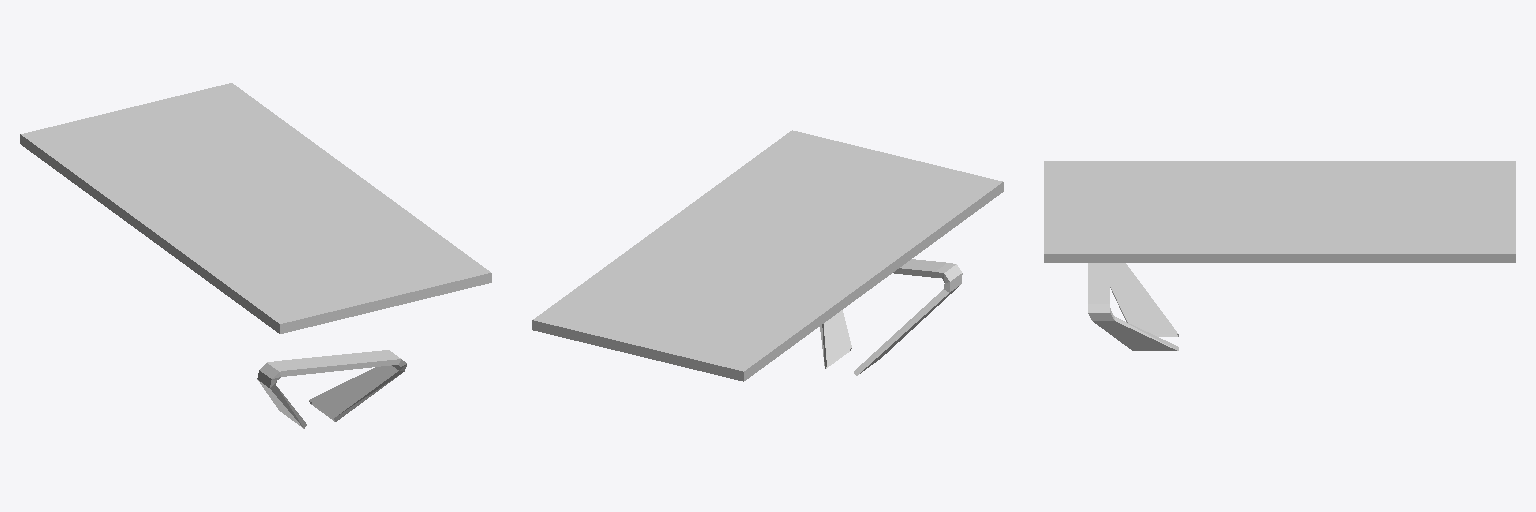
URDF robot description (partnet_e26918664dbd68eb7a867e9b35a1295):
<?xml version="1.0" ?>
<robot name="partnet_e26918664dbd68eb7a867e9b35a1295">

	<link name="base"/>
	<link name="link_0">
		<visual name="switch-11">
			<origin xyz="0 0.48966786375093707 0.21739313624906295"/>
			<geometry>
				<mesh filename="textured_objs/original-85.obj"/>
			</geometry>
<material name="White"> <color rgba="0.85 0.85 0.85 1.0"/> </material>
		</visual>
		<visual name="switch-11">
			<origin xyz="0 0.48966786375093707 0.21739313624906295"/>
			<geometry>
				<mesh filename="textured_objs/original-109.obj"/>
			</geometry>
<material name="White"> <color rgba="0.85 0.85 0.85 1.0"/> </material>
		</visual>
		<visual name="switch-11">
			<origin xyz="0 0.48966786375093707 0.21739313624906295"/>
			<geometry>
				<mesh filename="textured_objs/original-54.obj"/>
			</geometry>
<material name="White"> <color rgba="0.85 0.85 0.85 1.0"/> </material>
		</visual>
		<visual name="switch-11">
			<origin xyz="0 0.48966786375093707 0.21739313624906295"/>
			<geometry>
				<mesh filename="textured_objs/original-113.obj"/>
			</geometry>
<material name="White"> <color rgba="0.85 0.85 0.85 1.0"/> </material>
		</visual>
		<visual name="switch-11">
			<origin xyz="0 0.48966786375093707 0.21739313624906295"/>
			<geometry>
				<mesh filename="textured_objs/original-97.obj"/>
			</geometry>
<material name="White"> <color rgba="0.85 0.85 0.85 1.0"/> </material>
		</visual>
		<visual name="switch-11">
			<origin xyz="0 0.48966786375093707 0.21739313624906295"/>
			<geometry>
				<mesh filename="textured_objs/original-137.obj"/>
			</geometry>
<material name="White"> <color rgba="0.85 0.85 0.85 1.0"/> </material>
		</visual>
		<collision>
			<origin xyz="0 0.48966786375093707 0.21739313624906295"/>
			<geometry>
				<mesh filename="textured_objs/original-85.obj"/>
			</geometry>
    </collision>
		<collision>
			<origin xyz="0 0.48966786375093707 0.21739313624906295"/>
			<geometry>
				<mesh filename="textured_objs/original-109.obj"/>
			</geometry>
    </collision>
		<collision>
			<origin xyz="0 0.48966786375093707 0.21739313624906295"/>
			<geometry>
				<mesh filename="textured_objs/original-54.obj"/>
			</geometry>
    </collision>
		<collision>
			<origin xyz="0 0.48966786375093707 0.21739313624906295"/>
			<geometry>
				<mesh filename="textured_objs/original-113.obj"/>
			</geometry>
    </collision>
		<collision>
			<origin xyz="0 0.48966786375093707 0.21739313624906295"/>
			<geometry>
				<mesh filename="textured_objs/original-97.obj"/>
			</geometry>
    </collision>
		<collision>
			<origin xyz="0 0.48966786375093707 0.21739313624906295"/>
			<geometry>
				<mesh filename="textured_objs/original-137.obj"/>
			</geometry>
    </collision>
	</link>
	<joint name="joint_0" type="revolute">
		<origin xyz="0 -0.48966786375093707 -0.21739313624906295"/>
		<axis xyz="1 0 0"/>
		<child link="link_0"/>
		<parent link="link_1"/>
		<limit lower="0.0" upper="2.9670597283903604"/>
	</joint>
	<link name="link_1">
		<visual name="surface_base-18">
			<origin xyz="0 0 0"/>
			<geometry>
				<mesh filename="textured_objs/original-63.obj"/>
			</geometry>
<material name="White"> <color rgba="0.85 0.85 0.85 1.0"/> </material>
		</visual>
		<visual name="surface_base-18">
			<origin xyz="0 0 0"/>
			<geometry>
				<mesh filename="textured_objs/original-163.obj"/>
			</geometry>
<material name="White"> <color rgba="0.85 0.85 0.85 1.0"/> </material>
		</visual>
		<visual name="surface_base-18">
			<origin xyz="0 0 0"/>
			<geometry>
				<mesh filename="textured_objs/original-140.obj"/>
			</geometry>
<material name="White"> <color rgba="0.85 0.85 0.85 1.0"/> </material>
		</visual>
		<visual name="surface_base-18">
			<origin xyz="0 0 0"/>
			<geometry>
				<mesh filename="textured_objs/original-165.obj"/>
			</geometry>
<material name="White"> <color rgba="0.85 0.85 0.85 1.0"/> </material>
		</visual>
		<visual name="surface_base-18">
			<origin xyz="0 0 0"/>
			<geometry>
				<mesh filename="textured_objs/original-166.obj"/>
			</geometry>
<material name="White"> <color rgba="0.85 0.85 0.85 1.0"/> </material>
		</visual>
		<visual name="surface_base-18">
			<origin xyz="0 0 0"/>
			<geometry>
				<mesh filename="textured_objs/original-147.obj"/>
			</geometry>
<material name="White"> <color rgba="0.85 0.85 0.85 1.0"/> </material>
		</visual>
		<visual name="surface_base-18">
			<origin xyz="0 0 0"/>
			<geometry>
				<mesh filename="textured_objs/original-167.obj"/>
			</geometry>
<material name="White"> <color rgba="0.85 0.85 0.85 1.0"/> </material>
		</visual>
		<visual name="surface_base-18">
			<origin xyz="0 0 0"/>
			<geometry>
				<mesh filename="textured_objs/original-135.obj"/>
			</geometry>
<material name="White"> <color rgba="0.85 0.85 0.85 1.0"/> </material>
		</visual>
		<visual name="surface_base-18">
			<origin xyz="0 0 0"/>
			<geometry>
				<mesh filename="textured_objs/original-141.obj"/>
			</geometry>
<material name="White"> <color rgba="0.85 0.85 0.85 1.0"/> </material>
		</visual>
		<visual name="surface_base-18">
			<origin xyz="0 0 0"/>
			<geometry>
				<mesh filename="textured_objs/original-131.obj"/>
			</geometry>
<material name="White"> <color rgba="0.85 0.85 0.85 1.0"/> </material>
		</visual>
		<visual name="surface_base-18">
			<origin xyz="0 0 0"/>
			<geometry>
				<mesh filename="textured_objs/original-142.obj"/>
			</geometry>
<material name="White"> <color rgba="0.85 0.85 0.85 1.0"/> </material>
		</visual>
		<visual name="surface_base-18">
			<origin xyz="0 0 0"/>
			<geometry>
				<mesh filename="textured_objs/original-144.obj"/>
			</geometry>
<material name="White"> <color rgba="0.85 0.85 0.85 1.0"/> </material>
		</visual>
		<visual name="surface_base-18">
			<origin xyz="0 0 0"/>
			<geometry>
				<mesh filename="textured_objs/original-128.obj"/>
			</geometry>
<material name="White"> <color rgba="0.85 0.85 0.85 1.0"/> </material>
		</visual>
		<visual name="surface_base-18">
			<origin xyz="0 0 0"/>
			<geometry>
				<mesh filename="textured_objs/original-151.obj"/>
			</geometry>
<material name="White"> <color rgba="0.85 0.85 0.85 1.0"/> </material>
		</visual>
		<visual name="surface_base-18">
			<origin xyz="0 0 0"/>
			<geometry>
				<mesh filename="textured_objs/original-134.obj"/>
			</geometry>
<material name="White"> <color rgba="0.85 0.85 0.85 1.0"/> </material>
		</visual>
		<visual name="surface_base-18">
			<origin xyz="0 0 0"/>
			<geometry>
				<mesh filename="textured_objs/original-125.obj"/>
			</geometry>
<material name="White"> <color rgba="0.85 0.85 0.85 1.0"/> </material>
		</visual>
		<visual name="surface_base-18">
			<origin xyz="0 0 0"/>
			<geometry>
				<mesh filename="textured_objs/original-133.obj"/>
			</geometry>
<material name="White"> <color rgba="0.85 0.85 0.85 1.0"/> </material>
		</visual>
		<visual name="surface_base-18">
			<origin xyz="0 0 0"/>
			<geometry>
				<mesh filename="textured_objs/original-169.obj"/>
			</geometry>
<material name="White"> <color rgba="0.85 0.85 0.85 1.0"/> </material>
		</visual>
		<visual name="surface_base-18">
			<origin xyz="0 0 0"/>
			<geometry>
				<mesh filename="textured_objs/original-168.obj"/>
			</geometry>
<material name="White"> <color rgba="0.85 0.85 0.85 1.0"/> </material>
		</visual>
		<visual name="vertical_support-19">
			<origin xyz="0 0 0"/>
			<geometry>
				<mesh filename="textured_objs/original-18.obj"/>
			</geometry>
<material name="White"> <color rgba="0.85 0.85 0.85 1.0"/> </material>
		</visual>
		<visual name="vertical_support-19">
			<origin xyz="0 0 0"/>
			<geometry>
				<mesh filename="textured_objs/original-35.obj"/>
			</geometry>
<material name="White"> <color rgba="0.85 0.85 0.85 1.0"/> </material>
		</visual>
		<visual name="vertical_support-19">
			<origin xyz="0 0 0"/>
			<geometry>
				<mesh filename="textured_objs/original-64.obj"/>
			</geometry>
<material name="White"> <color rgba="0.85 0.85 0.85 1.0"/> </material>
		</visual>
		<visual name="horizontal_support-20">
			<origin xyz="0 0 0"/>
			<geometry>
				<mesh filename="textured_objs/original-36.obj"/>
			</geometry>
<material name="White"> <color rgba="0.85 0.85 0.85 1.0"/> </material>
		</visual>
		<visual name="horizontal_support-20">
			<origin xyz="0 0 0"/>
			<geometry>
				<mesh filename="textured_objs/original-17.obj"/>
			</geometry>
<material name="White"> <color rgba="0.85 0.85 0.85 1.0"/> </material>
		</visual>
		<collision>
			<origin xyz="0 0 0"/>
			<geometry>
				<mesh filename="textured_objs/original-63.obj"/>
			</geometry>
    </collision>
		<collision>
			<origin xyz="0 0 0"/>
			<geometry>
				<mesh filename="textured_objs/original-163.obj"/>
			</geometry>
    </collision>
		<collision>
			<origin xyz="0 0 0"/>
			<geometry>
				<mesh filename="textured_objs/original-140.obj"/>
			</geometry>
    </collision>
		<collision>
			<origin xyz="0 0 0"/>
			<geometry>
				<mesh filename="textured_objs/original-165.obj"/>
			</geometry>
    </collision>
		<collision>
			<origin xyz="0 0 0"/>
			<geometry>
				<mesh filename="textured_objs/original-166.obj"/>
			</geometry>
    </collision>
		<collision>
			<origin xyz="0 0 0"/>
			<geometry>
				<mesh filename="textured_objs/original-147.obj"/>
			</geometry>
    </collision>
		<collision>
			<origin xyz="0 0 0"/>
			<geometry>
				<mesh filename="textured_objs/original-167.obj"/>
			</geometry>
    </collision>
		<collision>
			<origin xyz="0 0 0"/>
			<geometry>
				<mesh filename="textured_objs/original-135.obj"/>
			</geometry>
    </collision>
		<collision>
			<origin xyz="0 0 0"/>
			<geometry>
				<mesh filename="textured_objs/original-141.obj"/>
			</geometry>
    </collision>
		<collision>
			<origin xyz="0 0 0"/>
			<geometry>
				<mesh filename="textured_objs/original-131.obj"/>
			</geometry>
    </collision>
		<collision>
			<origin xyz="0 0 0"/>
			<geometry>
				<mesh filename="textured_objs/original-142.obj"/>
			</geometry>
    </collision>
		<collision>
			<origin xyz="0 0 0"/>
			<geometry>
				<mesh filename="textured_objs/original-144.obj"/>
			</geometry>
    </collision>
		<collision>
			<origin xyz="0 0 0"/>
			<geometry>
				<mesh filename="textured_objs/original-128.obj"/>
			</geometry>
    </collision>
		<collision>
			<origin xyz="0 0 0"/>
			<geometry>
				<mesh filename="textured_objs/original-151.obj"/>
			</geometry>
    </collision>
		<collision>
			<origin xyz="0 0 0"/>
			<geometry>
				<mesh filename="textured_objs/original-134.obj"/>
			</geometry>
    </collision>
		<collision>
			<origin xyz="0 0 0"/>
			<geometry>
				<mesh filename="textured_objs/original-125.obj"/>
			</geometry>
    </collision>
		<collision>
			<origin xyz="0 0 0"/>
			<geometry>
				<mesh filename="textured_objs/original-133.obj"/>
			</geometry>
    </collision>
		<collision>
			<origin xyz="0 0 0"/>
			<geometry>
				<mesh filename="textured_objs/original-169.obj"/>
			</geometry>
    </collision>
		<collision>
			<origin xyz="0 0 0"/>
			<geometry>
				<mesh filename="textured_objs/original-168.obj"/>
			</geometry>
    </collision>
		<collision>
			<origin xyz="0 0 0"/>
			<geometry>
				<mesh filename="textured_objs/original-18.obj"/>
			</geometry>
    </collision>
		<collision>
			<origin xyz="0 0 0"/>
			<geometry>
				<mesh filename="textured_objs/original-35.obj"/>
			</geometry>
    </collision>
		<collision>
			<origin xyz="0 0 0"/>
			<geometry>
				<mesh filename="textured_objs/original-64.obj"/>
			</geometry>
    </collision>
		<collision>
			<origin xyz="0 0 0"/>
			<geometry>
				<mesh filename="textured_objs/original-36.obj"/>
			</geometry>
    </collision>
		<collision>
			<origin xyz="0 0 0"/>
			<geometry>
				<mesh filename="textured_objs/original-17.obj"/>
			</geometry>
    </collision>
	</link>
	<joint name="joint_1" type="fixed">
		<origin rpy="1.570796326794897 0 -1.570796326794897" xyz="0 0 0"/>
		<child link="link_1"/>
		<parent link="base"/>
	</joint>
	<link name="link_2">
		<visual name="tube-14">
			<origin xyz="0.041883731395393024 0 0.21739326860460695"/>
			<geometry>
				<mesh filename="textured_objs/original-180.obj"/>
			</geometry>
<material name="White"> <color rgba="0.85 0.85 0.85 1.0"/> </material>
		</visual>
		<visual name="tube-14">
			<origin xyz="0.041883731395393024 0 0.21739326860460695"/>
			<geometry>
				<mesh filename="textured_objs/original-161.obj"/>
			</geometry>
<material name="White"> <color rgba="0.85 0.85 0.85 1.0"/> </material>
		</visual>
		<visual name="tube-14">
			<origin xyz="0.041883731395393024 0 0.21739326860460695"/>
			<geometry>
				<mesh filename="textured_objs/original-170.obj"/>
			</geometry>
<material name="White"> <color rgba="0.85 0.85 0.85 1.0"/> </material>
		</visual>
		<visual name="tube-14">
			<origin xyz="0.041883731395393024 0 0.21739326860460695"/>
			<geometry>
				<mesh filename="textured_objs/original-182.obj"/>
			</geometry>
<material name="White"> <color rgba="0.85 0.85 0.85 1.0"/> </material>
		</visual>
		<visual name="tube-14">
			<origin xyz="0.041883731395393024 0 0.21739326860460695"/>
			<geometry>
				<mesh filename="textured_objs/original-181.obj"/>
			</geometry>
<material name="White"> <color rgba="0.85 0.85 0.85 1.0"/> </material>
		</visual>
		<visual name="tube-14">
			<origin xyz="0.041883731395393024 0 0.21739326860460695"/>
			<geometry>
				<mesh filename="textured_objs/original-176.obj"/>
			</geometry>
<material name="White"> <color rgba="0.85 0.85 0.85 1.0"/> </material>
		</visual>
		<visual name="tube-14">
			<origin xyz="0.041883731395393024 0 0.21739326860460695"/>
			<geometry>
				<mesh filename="textured_objs/original-183.obj"/>
			</geometry>
<material name="White"> <color rgba="0.85 0.85 0.85 1.0"/> </material>
		</visual>
		<visual name="tube-14">
			<origin xyz="0.041883731395393024 0 0.21739326860460695"/>
			<geometry>
				<mesh filename="textured_objs/original-179.obj"/>
			</geometry>
<material name="White"> <color rgba="0.85 0.85 0.85 1.0"/> </material>
		</visual>
		<visual name="tube-14">
			<origin xyz="0.041883731395393024 0 0.21739326860460695"/>
			<geometry>
				<mesh filename="textured_objs/original-192.obj"/>
			</geometry>
<material name="White"> <color rgba="0.85 0.85 0.85 1.0"/> </material>
		</visual>
		<visual name="tube-14">
			<origin xyz="0.041883731395393024 0 0.21739326860460695"/>
			<geometry>
				<mesh filename="textured_objs/original-190.obj"/>
			</geometry>
<material name="White"> <color rgba="0.85 0.85 0.85 1.0"/> </material>
		</visual>
		<visual name="tube-14">
			<origin xyz="0.041883731395393024 0 0.21739326860460695"/>
			<geometry>
				<mesh filename="textured_objs/original-178.obj"/>
			</geometry>
<material name="White"> <color rgba="0.85 0.85 0.85 1.0"/> </material>
		</visual>
		<visual name="tube-14">
			<origin xyz="0.041883731395393024 0 0.21739326860460695"/>
			<geometry>
				<mesh filename="textured_objs/original-157.obj"/>
			</geometry>
<material name="White"> <color rgba="0.85 0.85 0.85 1.0"/> </material>
		</visual>
		<visual name="tube-14">
			<origin xyz="0.041883731395393024 0 0.21739326860460695"/>
			<geometry>
				<mesh filename="textured_objs/original-160.obj"/>
			</geometry>
<material name="White"> <color rgba="0.85 0.85 0.85 1.0"/> </material>
		</visual>
		<visual name="tube-14">
			<origin xyz="0.041883731395393024 0 0.21739326860460695"/>
			<geometry>
				<mesh filename="textured_objs/original-194.obj"/>
			</geometry>
<material name="White"> <color rgba="0.85 0.85 0.85 1.0"/> </material>
		</visual>
		<visual name="tube-14">
			<origin xyz="0.041883731395393024 0 0.21739326860460695"/>
			<geometry>
				<mesh filename="textured_objs/original-158.obj"/>
			</geometry>
<material name="White"> <color rgba="0.85 0.85 0.85 1.0"/> </material>
		</visual>
		<visual name="tube-14">
			<origin xyz="0.041883731395393024 0 0.21739326860460695"/>
			<geometry>
				<mesh filename="textured_objs/original-173.obj"/>
			</geometry>
<material name="White"> <color rgba="0.85 0.85 0.85 1.0"/> </material>
		</visual>
		<visual name="tube-14">
			<origin xyz="0.041883731395393024 0 0.21739326860460695"/>
			<geometry>
				<mesh filename="textured_objs/original-189.obj"/>
			</geometry>
<material name="White"> <color rgba="0.85 0.85 0.85 1.0"/> </material>
		</visual>
		<visual name="tube-14">
			<origin xyz="0.041883731395393024 0 0.21739326860460695"/>
			<geometry>
				<mesh filename="textured_objs/original-195.obj"/>
			</geometry>
<material name="White"> <color rgba="0.85 0.85 0.85 1.0"/> </material>
		</visual>
		<visual name="tube-14">
			<origin xyz="0.041883731395393024 0 0.21739326860460695"/>
			<geometry>
				<mesh filename="textured_objs/original-172.obj"/>
			</geometry>
<material name="White"> <color rgba="0.85 0.85 0.85 1.0"/> </material>
		</visual>
		<visual name="tube-14">
			<origin xyz="0.041883731395393024 0 0.21739326860460695"/>
			<geometry>
				<mesh filename="textured_objs/original-174.obj"/>
			</geometry>
<material name="White"> <color rgba="0.85 0.85 0.85 1.0"/> </material>
		</visual>
		<visual name="tube-14">
			<origin xyz="0.041883731395393024 0 0.21739326860460695"/>
			<geometry>
				<mesh filename="textured_objs/original-171.obj"/>
			</geometry>
<material name="White"> <color rgba="0.85 0.85 0.85 1.0"/> </material>
		</visual>
		<visual name="tube-14">
			<origin xyz="0.041883731395393024 0 0.21739326860460695"/>
			<geometry>
				<mesh filename="textured_objs/original-159.obj"/>
			</geometry>
<material name="White"> <color rgba="0.85 0.85 0.85 1.0"/> </material>
		</visual>
		<visual name="tube-14">
			<origin xyz="0.041883731395393024 0 0.21739326860460695"/>
			<geometry>
				<mesh filename="textured_objs/original-156.obj"/>
			</geometry>
<material name="White"> <color rgba="0.85 0.85 0.85 1.0"/> </material>
		</visual>
		<visual name="mouth-15">
			<origin xyz="0.041883731395393024 0 0.21739326860460695"/>
			<geometry>
				<mesh filename="textured_objs/original-186.obj"/>
			</geometry>
<material name="White"> <color rgba="0.85 0.85 0.85 1.0"/> </material>
		</visual>
		<collision>
			<origin xyz="0.041883731395393024 0 0.21739326860460695"/>
			<geometry>
				<mesh filename="textured_objs/original-180.obj"/>
			</geometry>
    </collision>
		<collision>
			<origin xyz="0.041883731395393024 0 0.21739326860460695"/>
			<geometry>
				<mesh filename="textured_objs/original-161.obj"/>
			</geometry>
    </collision>
		<collision>
			<origin xyz="0.041883731395393024 0 0.21739326860460695"/>
			<geometry>
				<mesh filename="textured_objs/original-170.obj"/>
			</geometry>
    </collision>
		<collision>
			<origin xyz="0.041883731395393024 0 0.21739326860460695"/>
			<geometry>
				<mesh filename="textured_objs/original-182.obj"/>
			</geometry>
    </collision>
		<collision>
			<origin xyz="0.041883731395393024 0 0.21739326860460695"/>
			<geometry>
				<mesh filename="textured_objs/original-181.obj"/>
			</geometry>
    </collision>
		<collision>
			<origin xyz="0.041883731395393024 0 0.21739326860460695"/>
			<geometry>
				<mesh filename="textured_objs/original-176.obj"/>
			</geometry>
    </collision>
		<collision>
			<origin xyz="0.041883731395393024 0 0.21739326860460695"/>
			<geometry>
				<mesh filename="textured_objs/original-183.obj"/>
			</geometry>
    </collision>
		<collision>
			<origin xyz="0.041883731395393024 0 0.21739326860460695"/>
			<geometry>
				<mesh filename="textured_objs/original-179.obj"/>
			</geometry>
    </collision>
		<collision>
			<origin xyz="0.041883731395393024 0 0.21739326860460695"/>
			<geometry>
				<mesh filename="textured_objs/original-192.obj"/>
			</geometry>
    </collision>
		<collision>
			<origin xyz="0.041883731395393024 0 0.21739326860460695"/>
			<geometry>
				<mesh filename="textured_objs/original-190.obj"/>
			</geometry>
    </collision>
		<collision>
			<origin xyz="0.041883731395393024 0 0.21739326860460695"/>
			<geometry>
				<mesh filename="textured_objs/original-178.obj"/>
			</geometry>
    </collision>
		<collision>
			<origin xyz="0.041883731395393024 0 0.21739326860460695"/>
			<geometry>
				<mesh filename="textured_objs/original-157.obj"/>
			</geometry>
    </collision>
		<collision>
			<origin xyz="0.041883731395393024 0 0.21739326860460695"/>
			<geometry>
				<mesh filename="textured_objs/original-160.obj"/>
			</geometry>
    </collision>
		<collision>
			<origin xyz="0.041883731395393024 0 0.21739326860460695"/>
			<geometry>
				<mesh filename="textured_objs/original-194.obj"/>
			</geometry>
    </collision>
		<collision>
			<origin xyz="0.041883731395393024 0 0.21739326860460695"/>
			<geometry>
				<mesh filename="textured_objs/original-158.obj"/>
			</geometry>
    </collision>
		<collision>
			<origin xyz="0.041883731395393024 0 0.21739326860460695"/>
			<geometry>
				<mesh filename="textured_objs/original-173.obj"/>
			</geometry>
    </collision>
		<collision>
			<origin xyz="0.041883731395393024 0 0.21739326860460695"/>
			<geometry>
				<mesh filename="textured_objs/original-189.obj"/>
			</geometry>
    </collision>
		<collision>
			<origin xyz="0.041883731395393024 0 0.21739326860460695"/>
			<geometry>
				<mesh filename="textured_objs/original-195.obj"/>
			</geometry>
    </collision>
		<collision>
			<origin xyz="0.041883731395393024 0 0.21739326860460695"/>
			<geometry>
				<mesh filename="textured_objs/original-172.obj"/>
			</geometry>
    </collision>
		<collision>
			<origin xyz="0.041883731395393024 0 0.21739326860460695"/>
			<geometry>
				<mesh filename="textured_objs/original-174.obj"/>
			</geometry>
    </collision>
		<collision>
			<origin xyz="0.041883731395393024 0 0.21739326860460695"/>
			<geometry>
				<mesh filename="textured_objs/original-171.obj"/>
			</geometry>
    </collision>
		<collision>
			<origin xyz="0.041883731395393024 0 0.21739326860460695"/>
			<geometry>
				<mesh filename="textured_objs/original-159.obj"/>
			</geometry>
    </collision>
		<collision>
			<origin xyz="0.041883731395393024 0 0.21739326860460695"/>
			<geometry>
				<mesh filename="textured_objs/original-156.obj"/>
			</geometry>
    </collision>
		<collision>
			<origin xyz="0.041883731395393024 0 0.21739326860460695"/>
			<geometry>
				<mesh filename="textured_objs/original-186.obj"/>
			</geometry>
    </collision>
	</link>
	<joint name="joint_2" type="continuous">
		<origin xyz="-0.041883731395393024 0 -0.21739326860460695"/>
		<axis xyz="0 1 0"/>
		<child link="link_2"/>
		<parent link="link_1"/>
	</joint>
</robot>

--- Render facts (derived) ---
3 views of the same robot in one strip: view 1: azimuth 30°, elevation 25°; view 2: azimuth 150°, elevation 25°; view 3: azimuth 270°, elevation 25° (orthographic).
Robot: partnet_e26918664dbd68eb7a867e9b35a1295 — 4 links, 3 joints (1 revolute, 1 continuous, 1 fixed); root link base; default pose: every joint at zero.
Links seen in each view (by area): view 1: link_1; view 2: link_1; view 3: link_1.
Boxes of the visible links, x1,y1,x2,y2 form: link_1: (20,83,491,428); link_1: (532,130,1003,381); link_1: (1044,161,1515,350).
Bounding box of the posed robot: 0.447 × 0.9501 × 0.3219 m (x, y, z).
3 mesh visuals loaded from 54 distinct referenced files (3 OBJ); not drawn: 51 (reference not matched to a file when rendering).